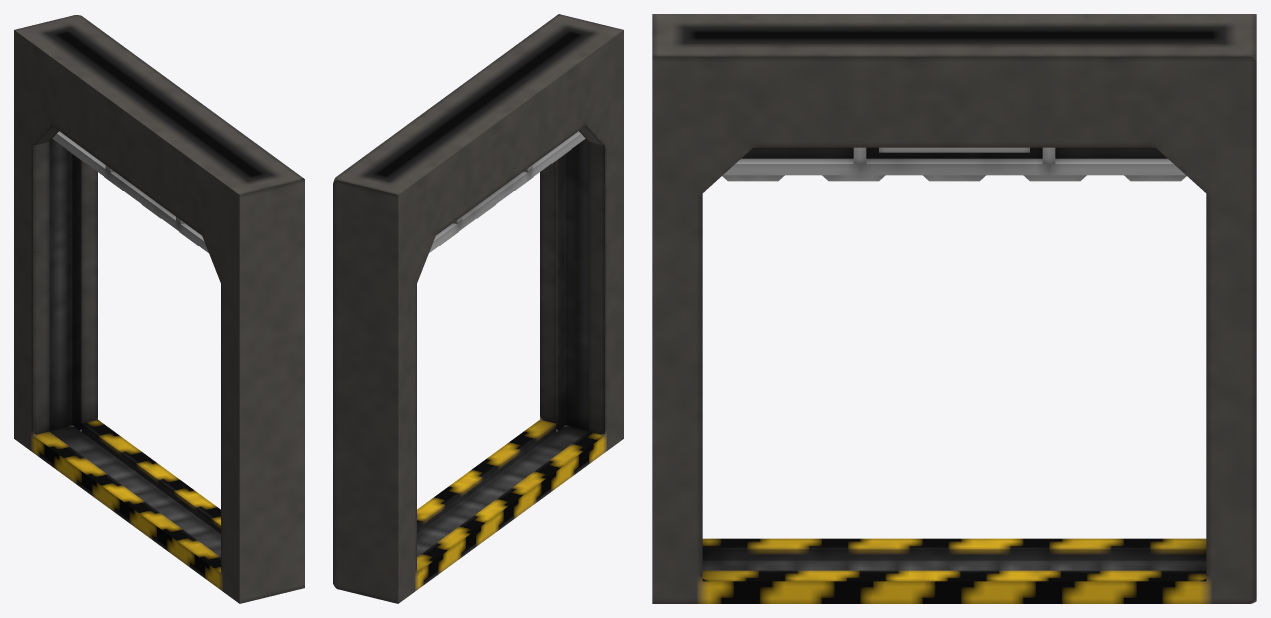
File: qe_containment_154.obj
3 views of the same model, side by side, from view 1: azimuth 30°, elevation 25°; view 2: azimuth 150°, elevation 25°; view 3: azimuth 270°, elevation 25° (orthographic). The views are drawn at different scales.
Visible parts, largest first — view 1: Frame, Door; view 2: Frame, Door; view 3: Frame, Door.
Boxes of the visible parts, x1=… form: Frame: x1=14, y1=15, x2=304, y2=603; Door: x1=52, y1=131, x2=208, y2=252; Frame: x1=333, y1=14, x2=623, y2=603; Door: x1=429, y1=131, x2=585, y2=252; Frame: x1=652, y1=14, x2=1256, y2=603; Door: x1=722, y1=147, x2=1186, y2=181.
Bounding box in the file's own units: 0.5 × 3 × 3.
